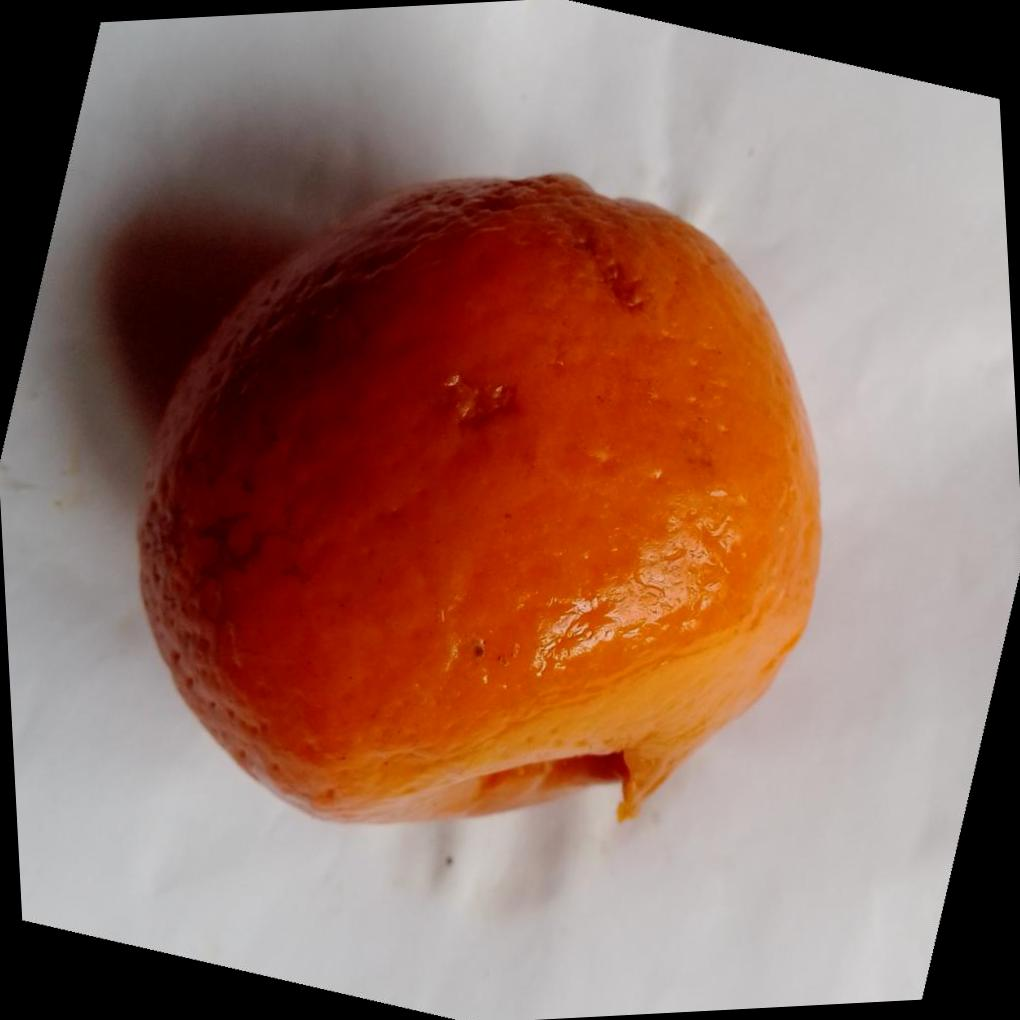FreshOrange: (134, 167, 824, 825)
